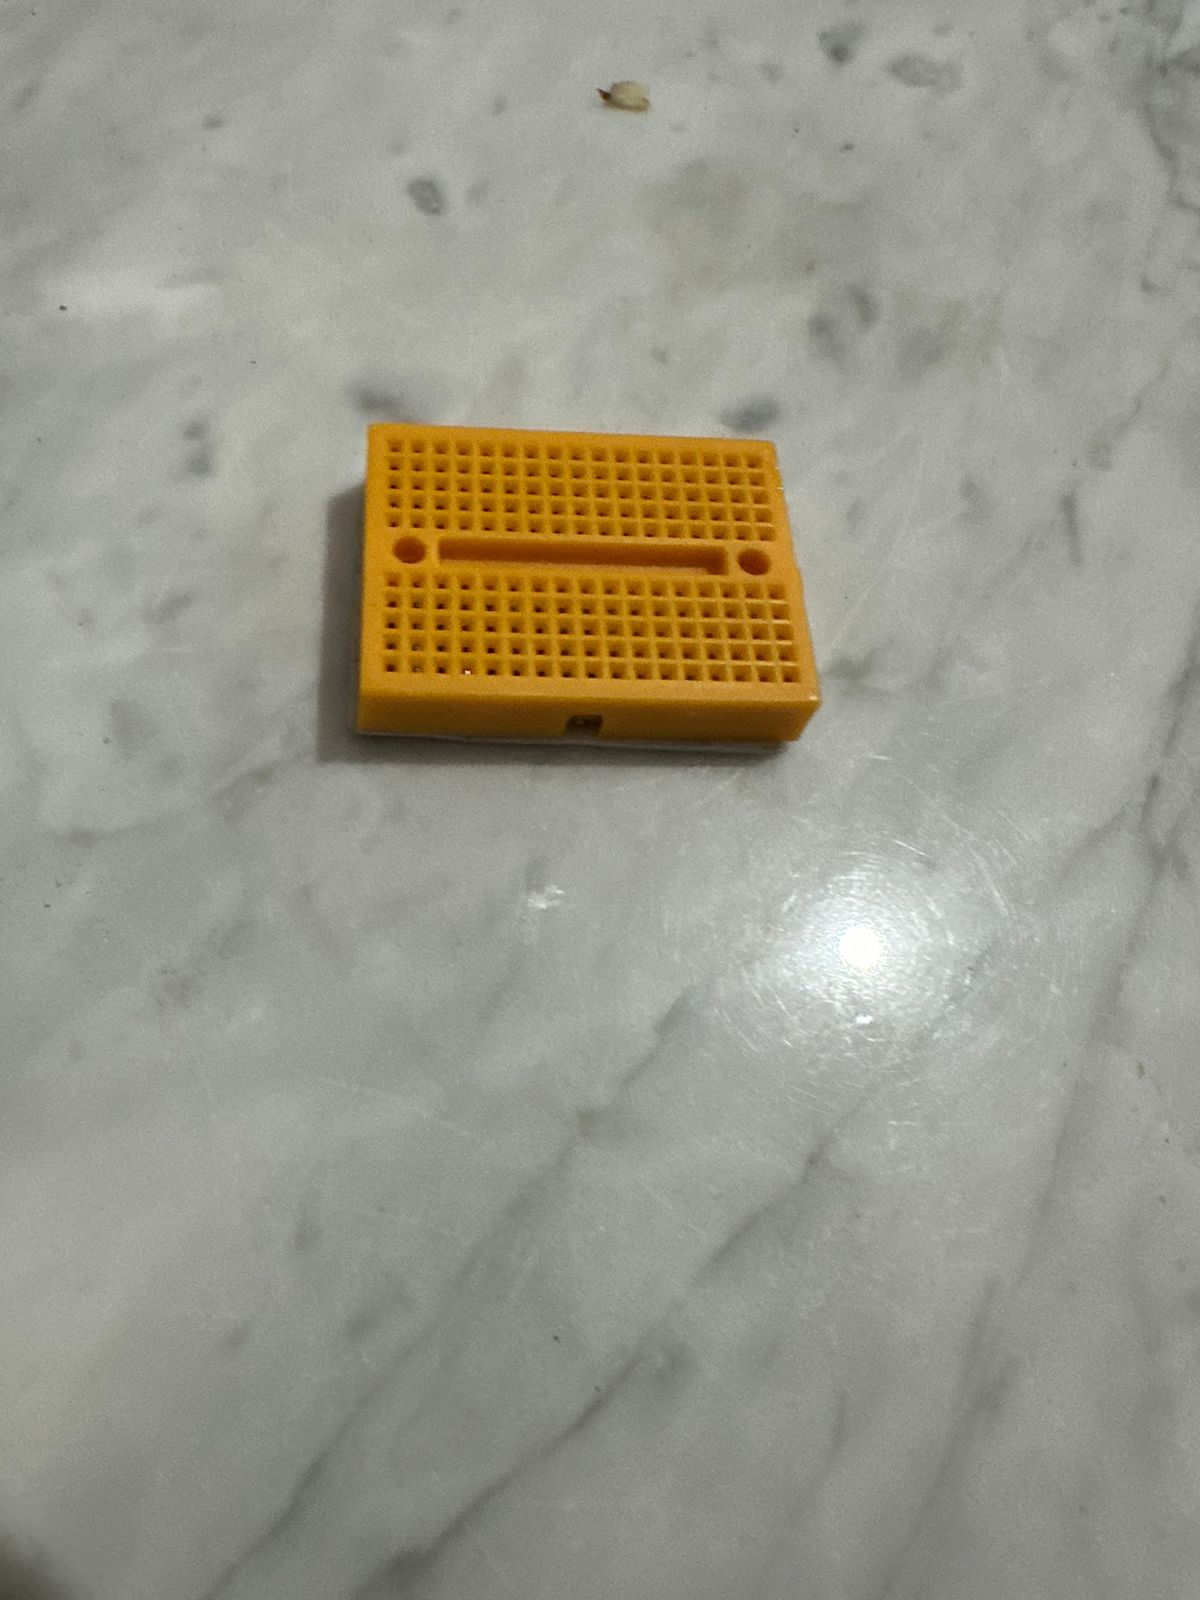breadboard: (357, 406, 819, 763)
